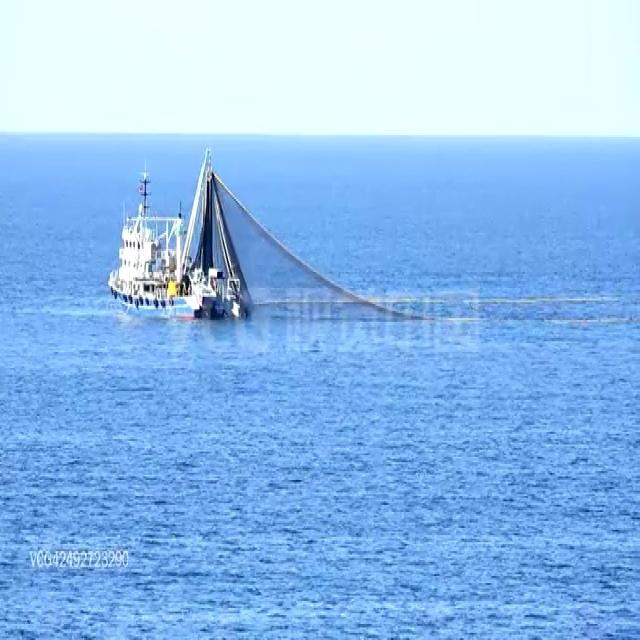fishing boat: (103, 159, 238, 325)
